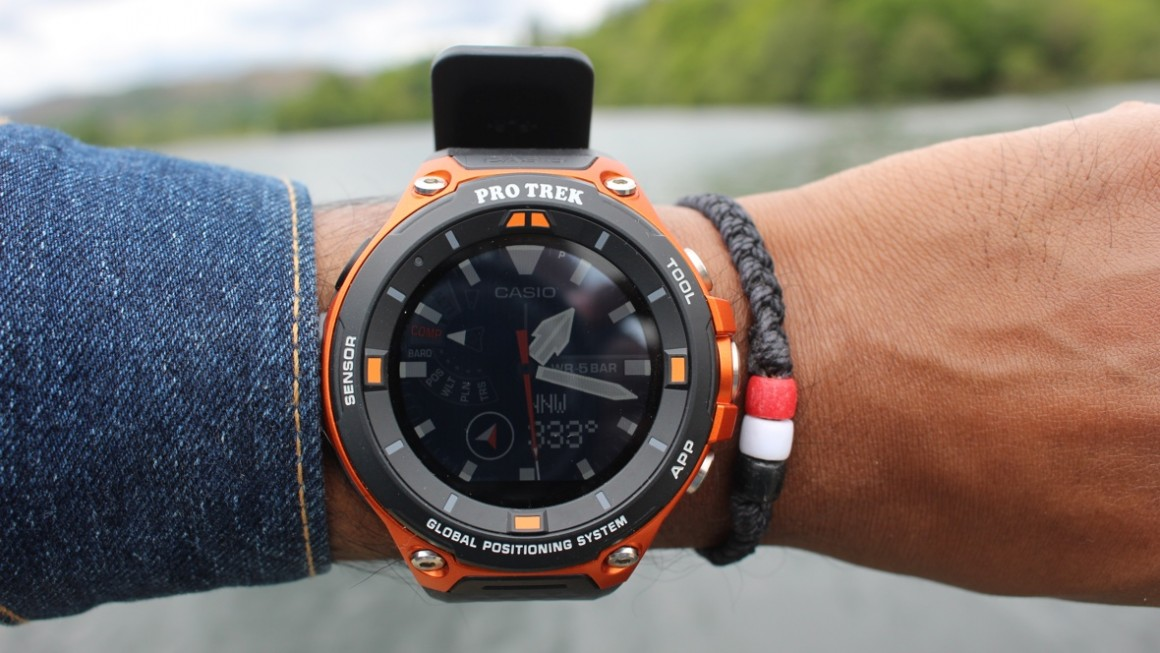clock: (325, 173, 723, 576)
